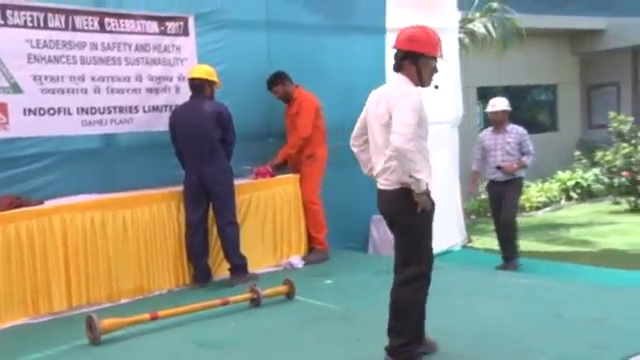helmet: (392, 24, 445, 63), (186, 61, 222, 89), (482, 96, 514, 113)
helmet_off: (265, 67, 299, 106)
helmet_on: (390, 22, 446, 93), (184, 58, 223, 103), (479, 92, 517, 132)
person: (350, 24, 445, 360), (169, 59, 260, 285), (256, 69, 331, 264), (469, 90, 537, 273)
